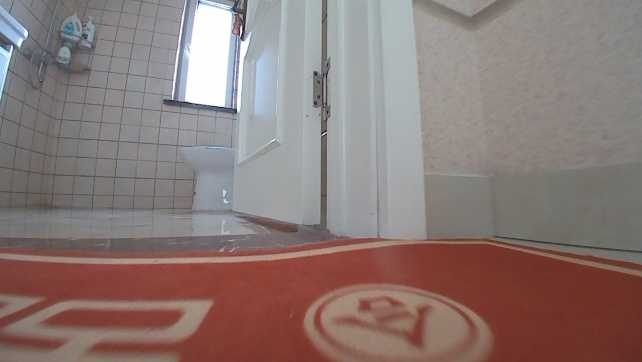blanket: (1, 233, 640, 360)
door_anno: (230, 1, 429, 243)
toilet: (183, 142, 237, 213)
